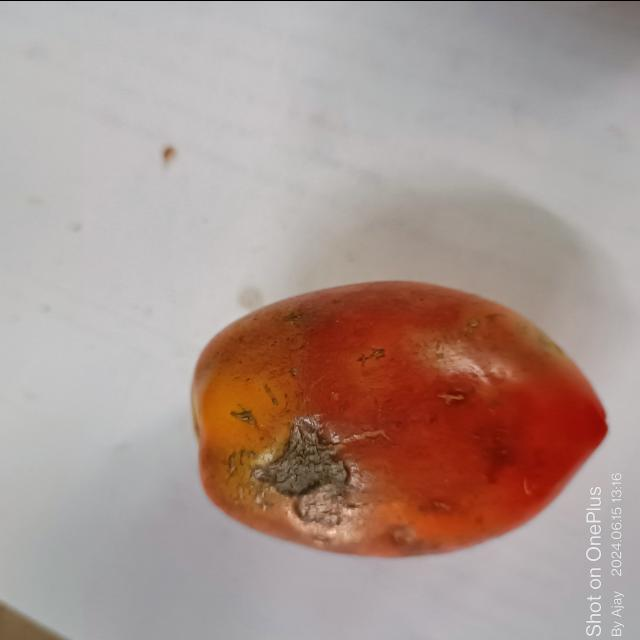Bacterial_Spot: (251, 413, 353, 532)
